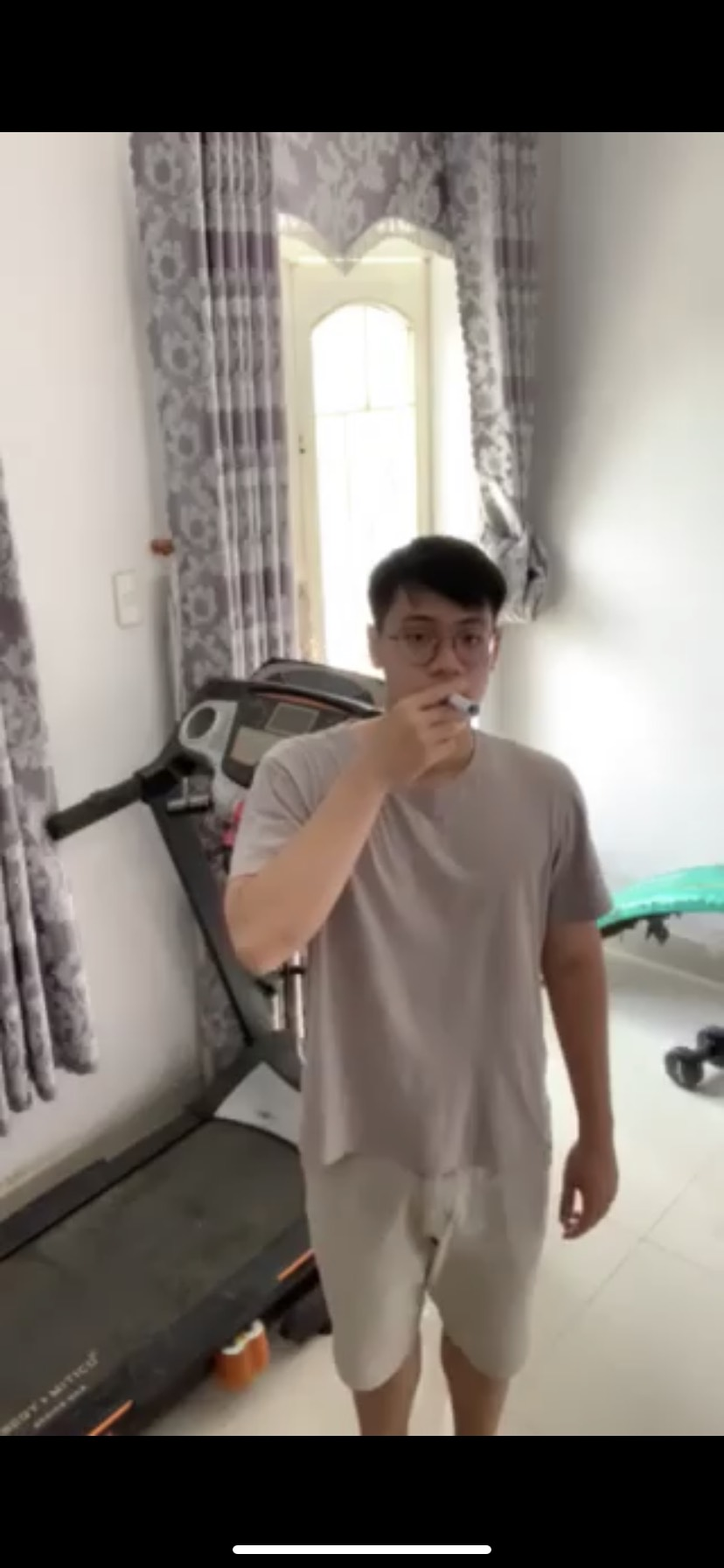cigarette: (443, 673, 494, 733)
person: (207, 502, 636, 1435)
